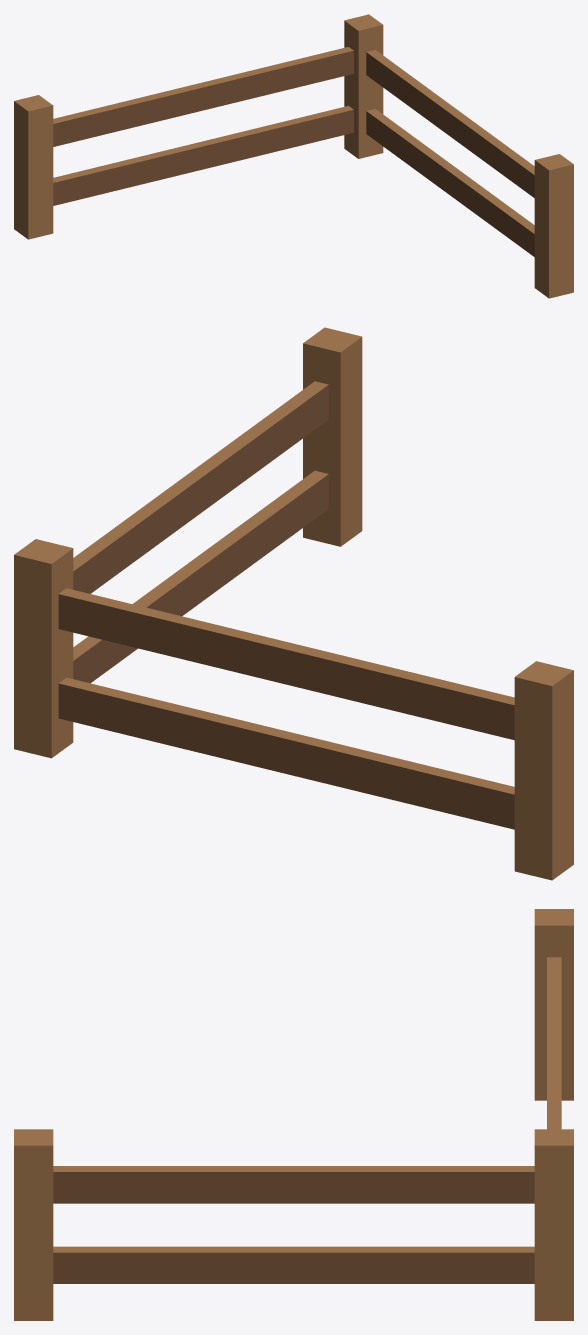
The model's file is fence_corner.glb.
3 renders of one model, top to bottom at view 1: azimuth 30°, elevation 25°; view 2: azimuth 150°, elevation 25°; view 3: azimuth 270°, elevation 25°, orthographic. The views are drawn at different scales.
Parts seen in each view (by area): view 1: fence_corner; view 2: fence_corner; view 3: fence_corner.
Part boxes in pixels (left/top/right/bottom): fence_corner: left=14, top=14, right=573, bottom=298; fence_corner: left=14, top=327, right=573, bottom=880; fence_corner: left=14, top=909, right=573, bottom=1320.
Bounding box in the file's own units: 1 × 0.345 × 1.
